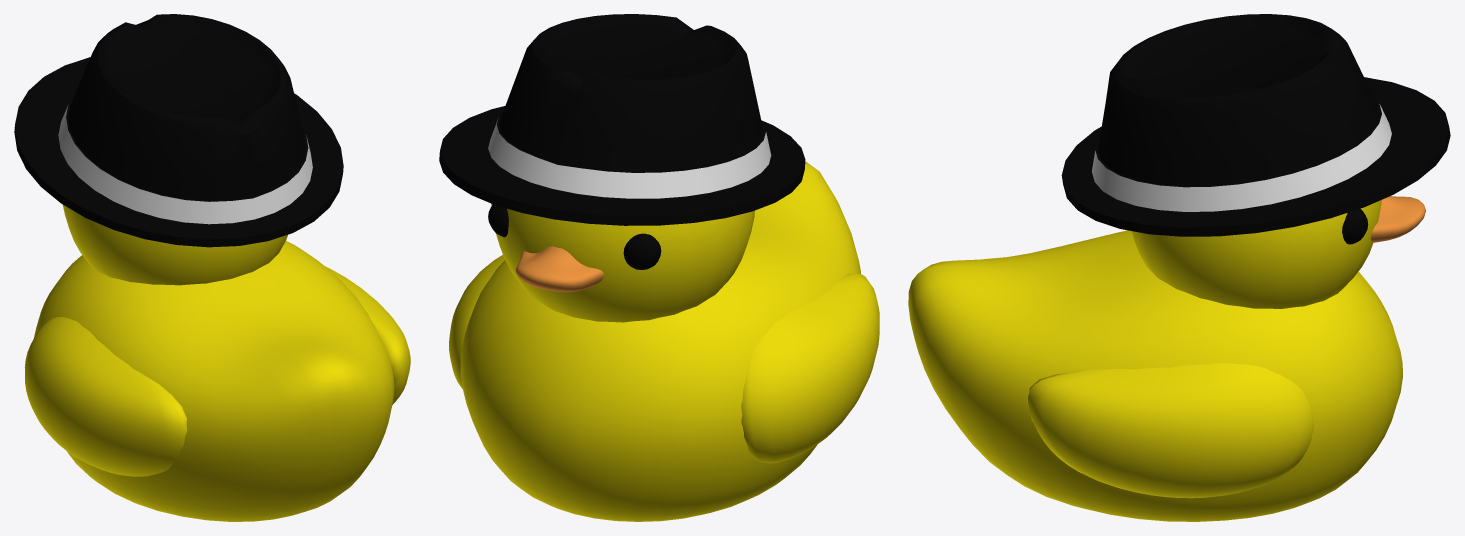
Rendered from agent_mallard (1).fbx.
3 views of the same model, side by side, from view 1: azimuth 30°, elevation 25°; view 2: azimuth 150°, elevation 25°; view 3: azimuth 270°, elevation 25° (orthographic). The views are drawn at different scales.
Visible parts, largest first — view 1: Duck, Fedora; view 2: Duck, Fedora; view 3: Duck, Fedora.
Boxes of the visible parts, x1,y1,x2,y2 form: Duck: (24,204,410,521); Fedora: (14,14,343,247); Duck: (449,161,879,521); Fedora: (439,14,805,225); Duck: (908,196,1425,521); Fedora: (1061,14,1450,236).
Size of the model in its own units: 26.07 by 30.6 by 34.34.
